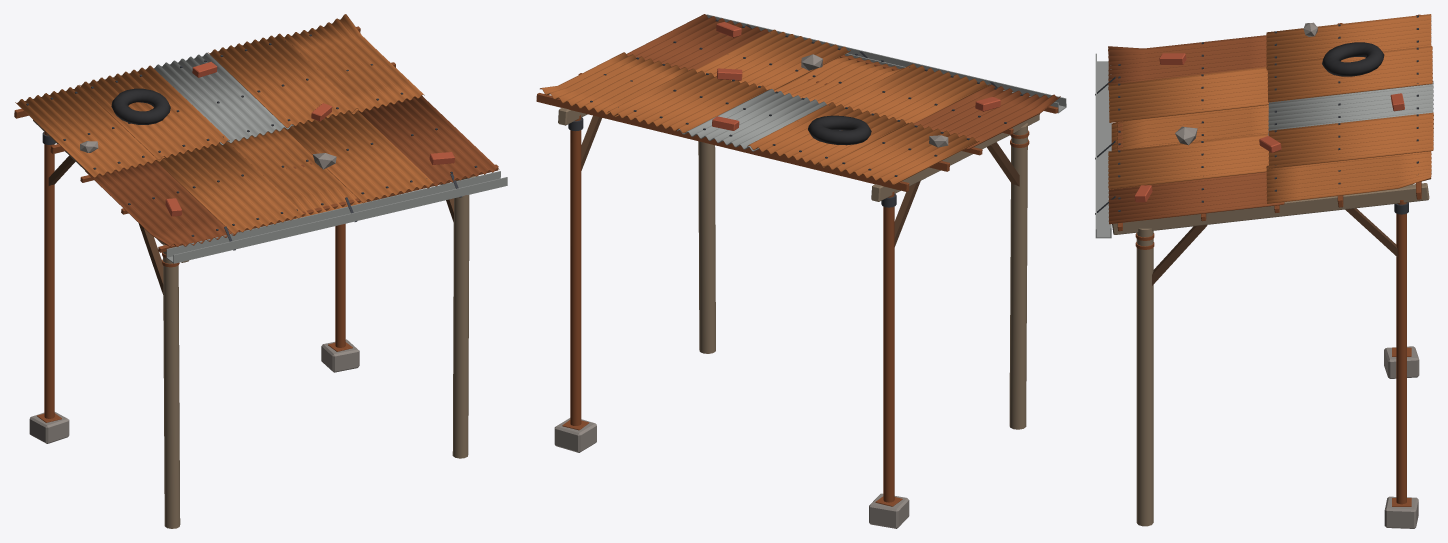
Rendered from deco_roof_rust_lean_to.fbx.
3 views of the same model, side by side, from view 1: azimuth 30°, elevation 25°; view 2: azimuth 150°, elevation 25°; view 3: azimuth 270°, elevation 25° (orthographic). The views are drawn at different scales.
Parts seen in each view (by area): view 1: Roof_RustLeanTo_Sheets, Roof_RustLeanTo_Posts, Roof_RustLeanTo_Gutter, Roof_RustLeanTo_Weights, Roof_RustLeanTo_Rafters, Roof_RustLeanTo_Purlins; view 2: Roof_RustLeanTo_Sheets, Roof_RustLeanTo_Posts, Roof_RustLeanTo_Weights, Roof_RustLeanTo_Rafters, Roof_RustLeanTo_Purlins, Roof_RustLeanTo_Gutter; view 3: Roof_RustLeanTo_Sheets, Roof_RustLeanTo_Posts, Roof_RustLeanTo_Rafters, Roof_RustLeanTo_Weights, Roof_RustLeanTo_Gutter, Roof_RustLeanTo_Purlins, Roof_RustLeanTo_Screws.
Boxes of the visible parts, x1,y1,x2,y2 form: Roof_RustLeanTo_Sheets: [15, 14, 499, 246]; Roof_RustLeanTo_Posts: [29, 131, 469, 528]; Roof_RustLeanTo_Gutter: [166, 171, 507, 263]; Roof_RustLeanTo_Weights: [80, 61, 454, 216]; Roof_RustLeanTo_Rafters: [33, 120, 475, 294]; Roof_RustLeanTo_Purlins: [14, 26, 498, 252]; Roof_RustLeanTo_Sheets: [540, 14, 1060, 184]; Roof_RustLeanTo_Posts: [554, 115, 1027, 528]; Roof_RustLeanTo_Weights: [712, 22, 1000, 147]; Roof_RustLeanTo_Rafters: [558, 107, 1039, 246]; Roof_RustLeanTo_Purlins: [536, 55, 1058, 191]; Roof_RustLeanTo_Gutter: [706, 14, 1066, 113]; Roof_RustLeanTo_Sheets: [1108, 14, 1433, 224]; Roof_RustLeanTo_Posts: [1136, 200, 1419, 528]; Roof_RustLeanTo_Rafters: [1112, 183, 1429, 285]; Roof_RustLeanTo_Weights: [1134, 22, 1404, 202]; Roof_RustLeanTo_Gutter: [1095, 53, 1115, 238]; Roof_RustLeanTo_Purlins: [1117, 14, 1421, 231]; Roof_RustLeanTo_Screws: [1118, 15, 1418, 211].
Size of the model in its own units: 427 by 400 by 343.
